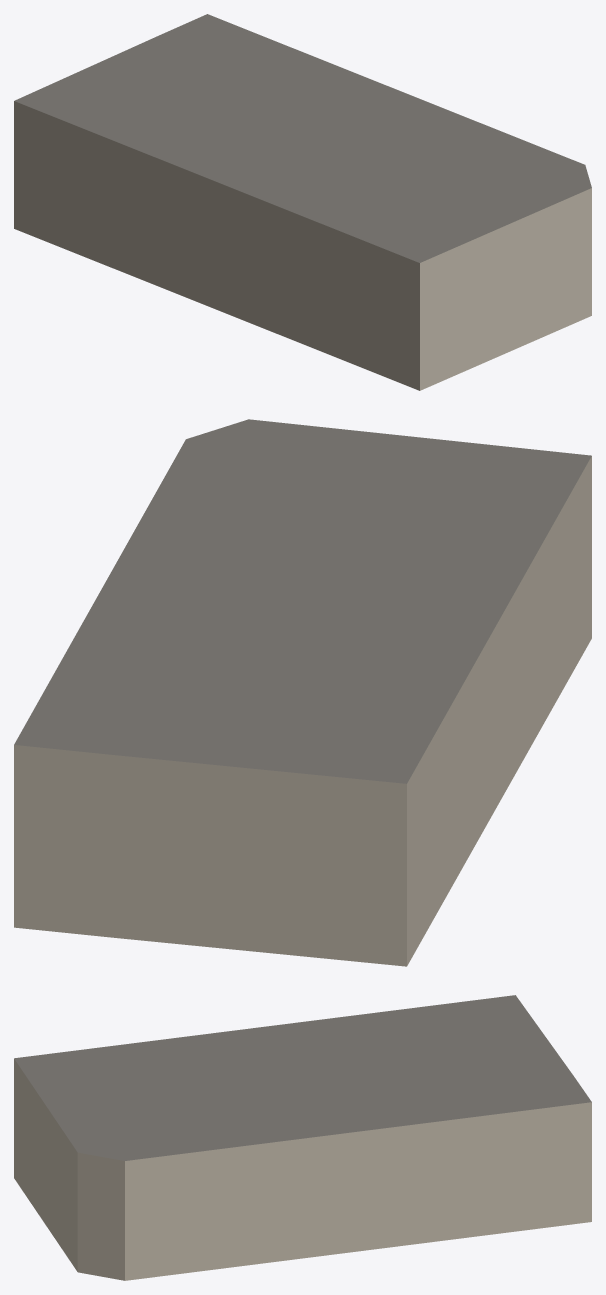
3 renders of one model, top to bottom at view 1: azimuth 30°, elevation 25°; view 2: azimuth 150°, elevation 25°; view 3: azimuth 270°, elevation 25°, orthographic. The views are drawn at different scales.
Visible parts, largest first — view 1: HP-w373833614; view 2: HP-w373833614; view 3: HP-w373833614.
Part boxes in pixels (left/top/right/bottom): HP-w373833614: left=14, top=14, right=591, bottom=390; HP-w373833614: left=14, top=419, right=591, bottom=966; HP-w373833614: left=14, top=995, right=591, bottom=1280.
Bounding box in the file's own units: 35.66 × 12 × 52.47.
